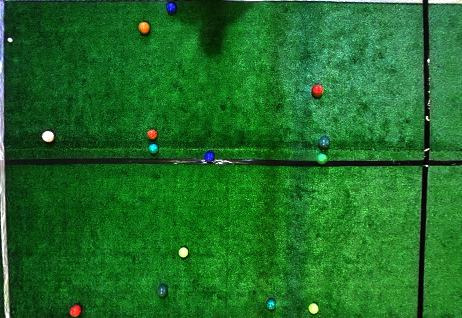blue: (166, 2, 176, 14), (204, 151, 215, 161)
green: (317, 153, 328, 164), (157, 285, 167, 297), (319, 138, 329, 149), (266, 299, 276, 310), (149, 144, 159, 154)
red: (138, 21, 150, 34), (69, 305, 82, 317), (312, 84, 323, 96), (42, 131, 54, 142), (147, 129, 158, 140)
vline: (417, 1, 462, 317), (0, 1, 15, 317)
white: (7, 37, 13, 43)
yellow: (178, 247, 189, 258), (308, 303, 319, 314)
